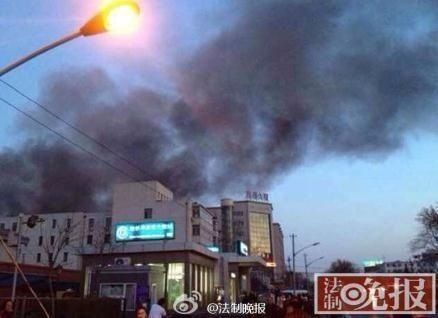fire: (87, 0, 144, 36)
